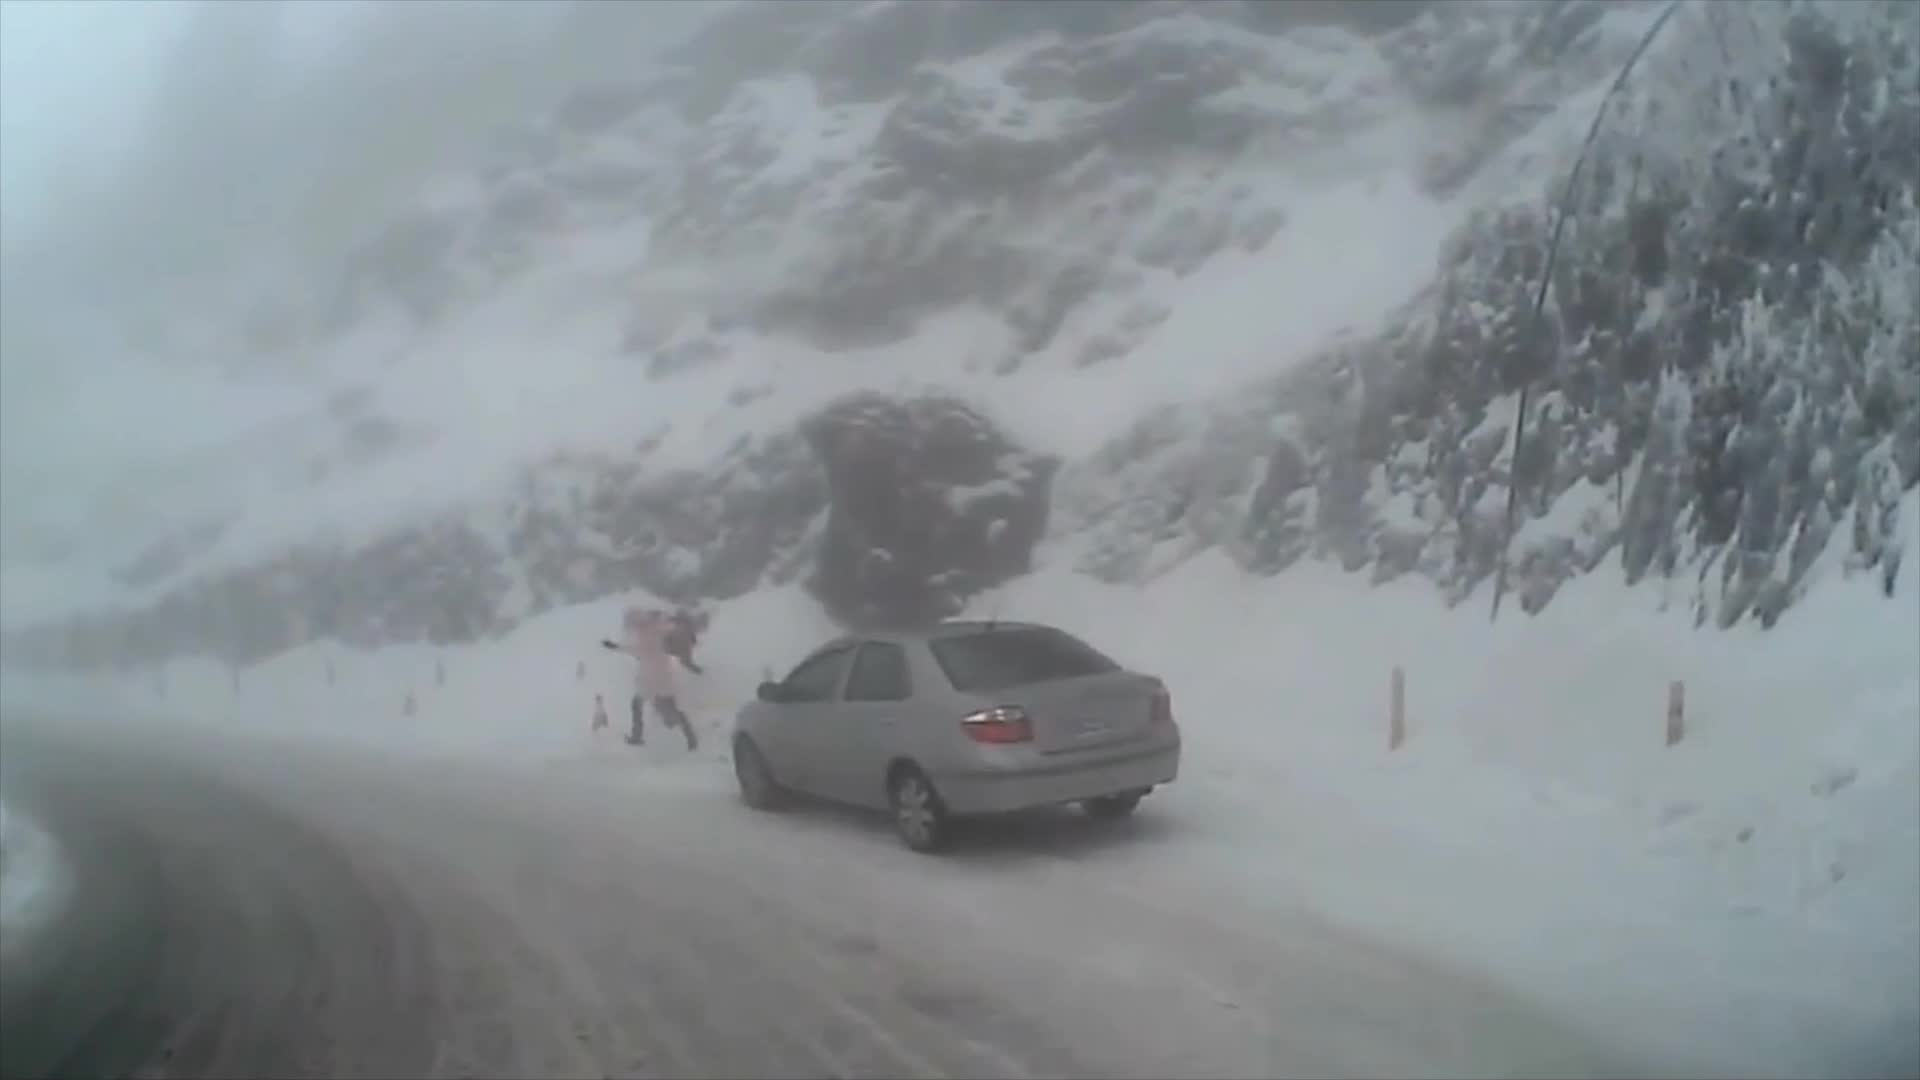pedestrian: (600, 591, 700, 757)
vehicle: (729, 618, 1180, 855)
